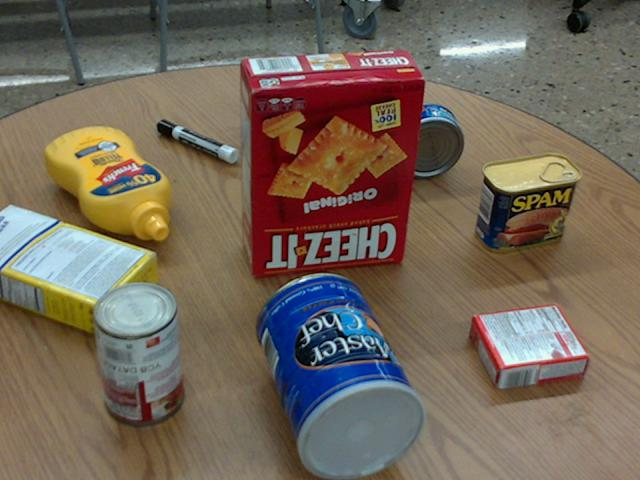cracker_box: (237, 47, 425, 277)
gelatin_box: (468, 302, 588, 387)
large_marker: (156, 120, 238, 162)
master_chef_can: (255, 272, 428, 479)
mug: (240, 58, 332, 147)
mustard_bottle: (45, 126, 171, 239)
potted_meat_can: (475, 152, 580, 253)
sugar_box: (0, 201, 157, 338)
tomato_soup_can: (93, 280, 185, 424)
tuna_fish_can: (387, 103, 463, 177)
